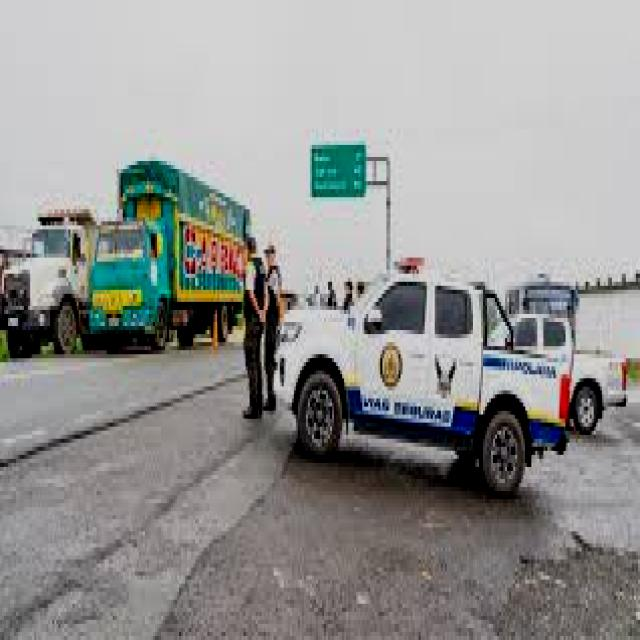CMT: (274, 252, 550, 508), (484, 268, 636, 500)
TRUCK: (99, 168, 246, 348), (0, 201, 85, 346)
